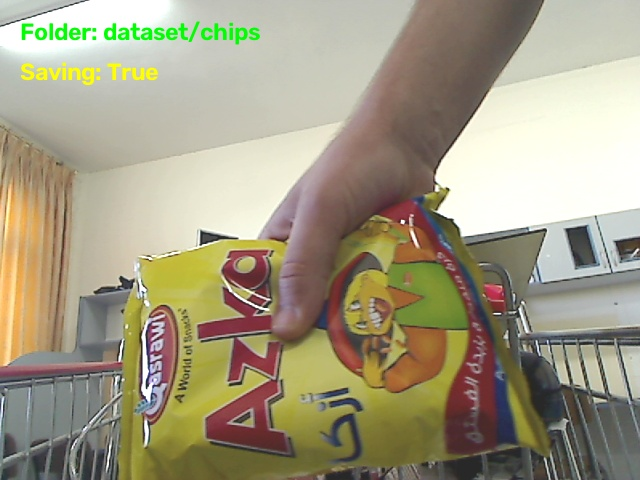chips: (119, 196, 548, 479)
